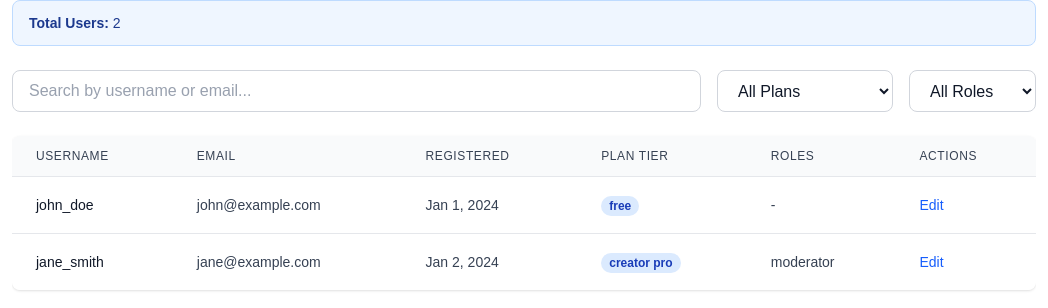
Test: UserManagementTab › Filter Functionality › should filter by plan tier
Expected: the text "john_doe" is shown, top-left (36, 197), bottom-right (94, 213)
Get all comboboxes and find the first one (plan tier filter)
Select "Creator Pro" in the 1st dropdown at point(805, 91), box top-left (717, 70), bottom-right (893, 112)
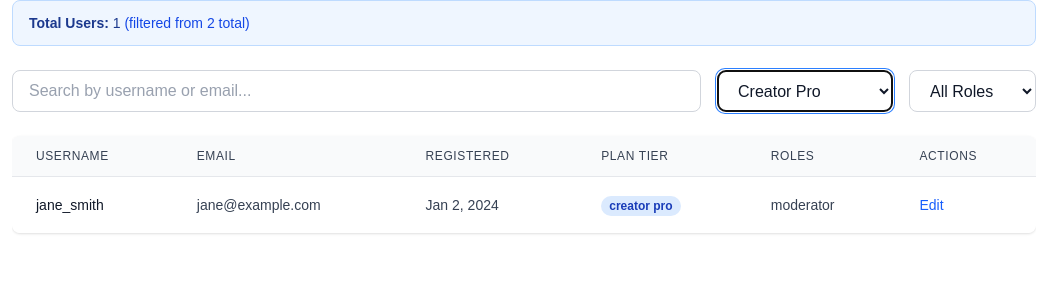
Expected: the text "jane_smith" is shown, top-left (36, 197), bottom-right (104, 213)
Result: the text "john_doe" is gone
